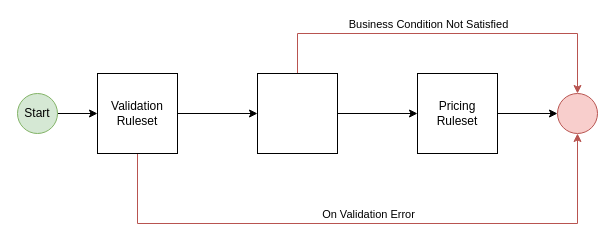
This 615x249 diagram has some shape labels left out. The box of each missing label's shape, as (x1, y1, x2, y2) in pixels:
Business Ruleset: (256, 72, 338, 154)
End: (556, 92, 598, 134)
